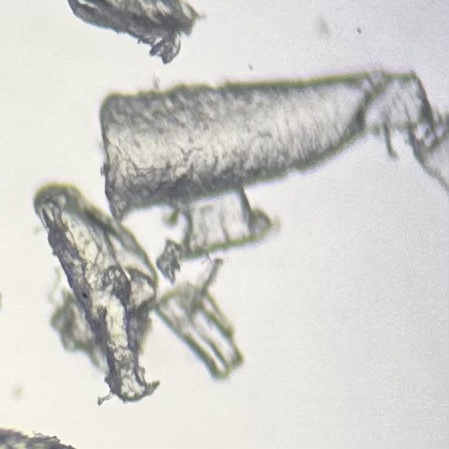microplastic: (96, 69, 430, 225), (32, 182, 166, 410), (152, 283, 251, 382), (66, 1, 211, 67), (173, 182, 278, 263), (411, 109, 449, 203), (185, 259, 223, 320), (1, 425, 80, 449), (154, 238, 188, 286)
